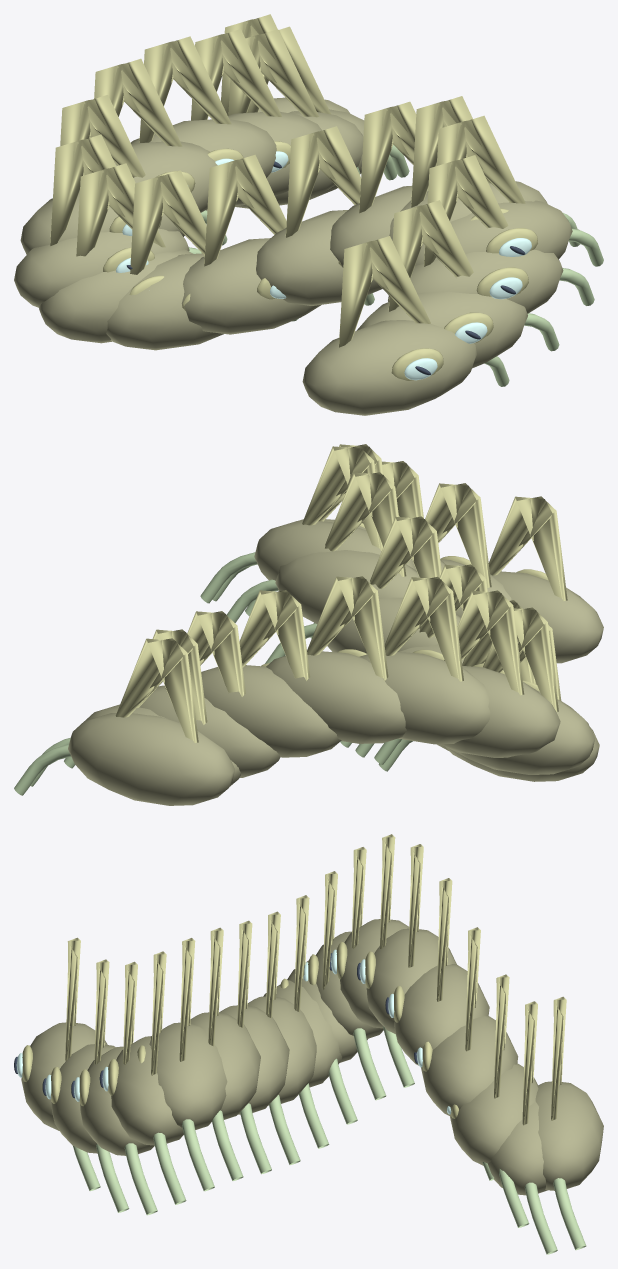
Rendered from bio_ribbon_colony_10_far.glb.
3 views of the same model, one above another, from view 1: azimuth 30°, elevation 25°; view 2: azimuth 150°, elevation 25°; view 3: azimuth 270°, elevation 25° (orthographic). The views are drawn at different scales.
Visible parts, largest first — view 1: Overlapping folded ribbon, Overlapping folded ribbon.007, Overlapping folded ribbon.006, Overlapping folded ribbon.008, Raised pleated edge, Overlapping folded ribbon.010, Overlapping folded ribbon.009, Raised pleated edge.007, Overlapping folded ribbon.002, Raised pleated edge.008, Raised pleated edge.006, Overlapping folded ribbon.001 (+25 smaller); view 2: Overlapping folded ribbon.017, Overlapping folded ribbon.013, Overlapping folded ribbon.012, Overlapping folded ribbon.014, Overlapping folded ribbon.011, Overlapping folded ribbon.005, Overlapping folded ribbon, Raised pleated edge.012, Raised pleated edge, Raised pleated edge.013, Raised pleated edge.017, Raised pleated edge.014 (+19 smaller); view 3: Overlapping folded ribbon.004, Overlapping folded ribbon.017, Overlapping folded ribbon.014, Overlapping folded ribbon.013, Overlapping folded ribbon.015, Overlapping folded ribbon.003, Overlapping folded ribbon.012, Overlapping folded ribbon.005, Overlapping folded ribbon, Overlapping folded ribbon.006, Overlapping folded ribbon.007, Overlapping folded ribbon.016 (+38 smaller).
Part boxes in pixels (box(x1,y1,x2,y2)): Overlapping folded ribbon: box(302, 320, 476, 415); Overlapping folded ribbon.007: box(181, 238, 320, 334); Overlapping folded ribbon.006: box(256, 210, 382, 305); Overlapping folded ribbon.008: box(106, 253, 223, 350); Raised pleated edge: box(339, 236, 443, 380); Overlapping folded ribbon.010: box(14, 229, 189, 307); Overlapping folded ribbon.009: box(39, 249, 193, 343); Raised pleated edge.007: box(204, 154, 286, 299); Overlapping folded ribbon.002: box(388, 249, 563, 313); Raised pleated edge.008: box(130, 170, 206, 310); Raised pleated edge.006: box(285, 126, 361, 266); Overlapping folded ribbon.001: box(357, 291, 527, 368); Overlapping folded ribbon.017: box(68, 713, 234, 805); Overlapping folded ribbon.013: box(266, 651, 406, 743); Overlapping folded ribbon.012: box(359, 652, 490, 744); Overlapping folded ribbon.014: box(201, 665, 341, 757); Overlapping folded ribbon.011: box(440, 666, 560, 757); Overlapping folded ribbon.005: box(275, 550, 419, 624); Overlapping folded ribbon: box(493, 571, 603, 663); Raised pleated edge.012: box(384, 576, 463, 681); Raised pleated edge: box(488, 496, 567, 601); Raised pleated edge.013: box(307, 576, 388, 680); Raised pleated edge.017: box(115, 638, 198, 742); Raised pleated edge.014: box(239, 590, 310, 680); Overlapping folded ribbon.004: box(149, 1022, 227, 1129); Overlapping folded ribbon.017: box(535, 1081, 603, 1190); Overlapping folded ribbon.014: box(421, 1015, 518, 1116); Overlapping folded ribbon.013: box(394, 964, 489, 1065); Overlapping folded ribbon.015: box(450, 1063, 538, 1165); Overlapping folded ribbon.003: box(111, 1036, 183, 1145); Overlapping folded ribbon.012: box(366, 928, 456, 1034); Overlapping folded ribbon.005: box(190, 1012, 260, 1119); Overlapping folded ribbon: box(21, 1022, 107, 1130); Overlapping folded ribbon.006: box(219, 1005, 289, 1114); Overlapping folded ribbon.007: box(247, 996, 316, 1105); Overlapping folded ribbon.016: box(487, 1099, 547, 1195).
Bounding box in the file's own units: 2.81 × 1.39 × 3.04.
